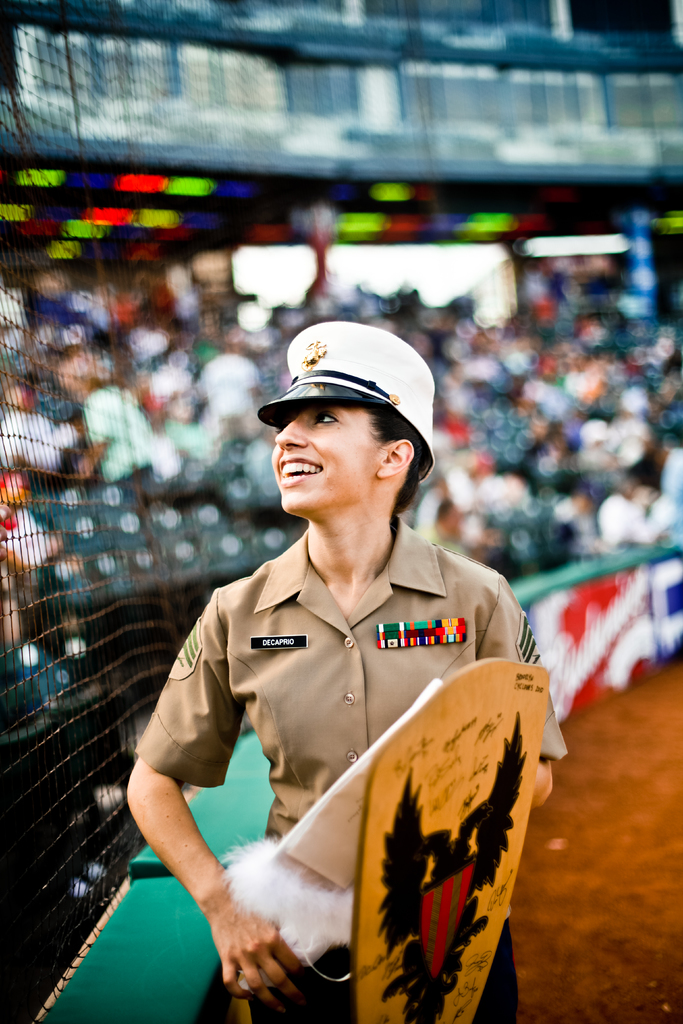Human_hand: (202, 892, 314, 1007)
